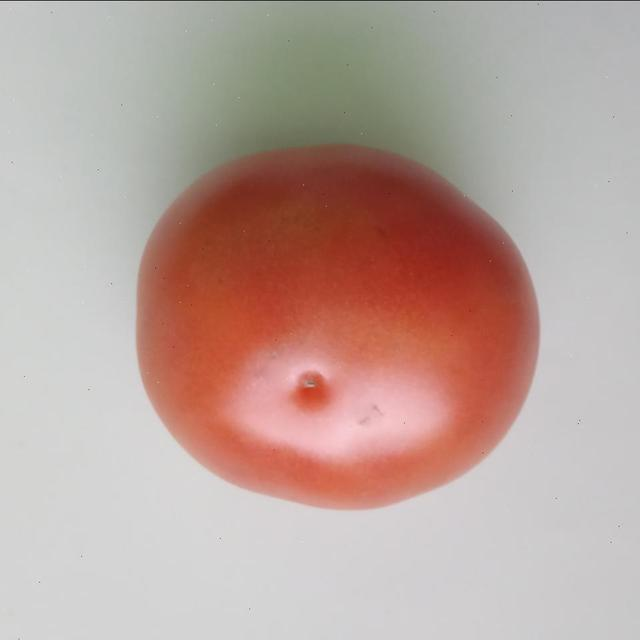Healthy Fruit: (87, 95, 363, 341)
